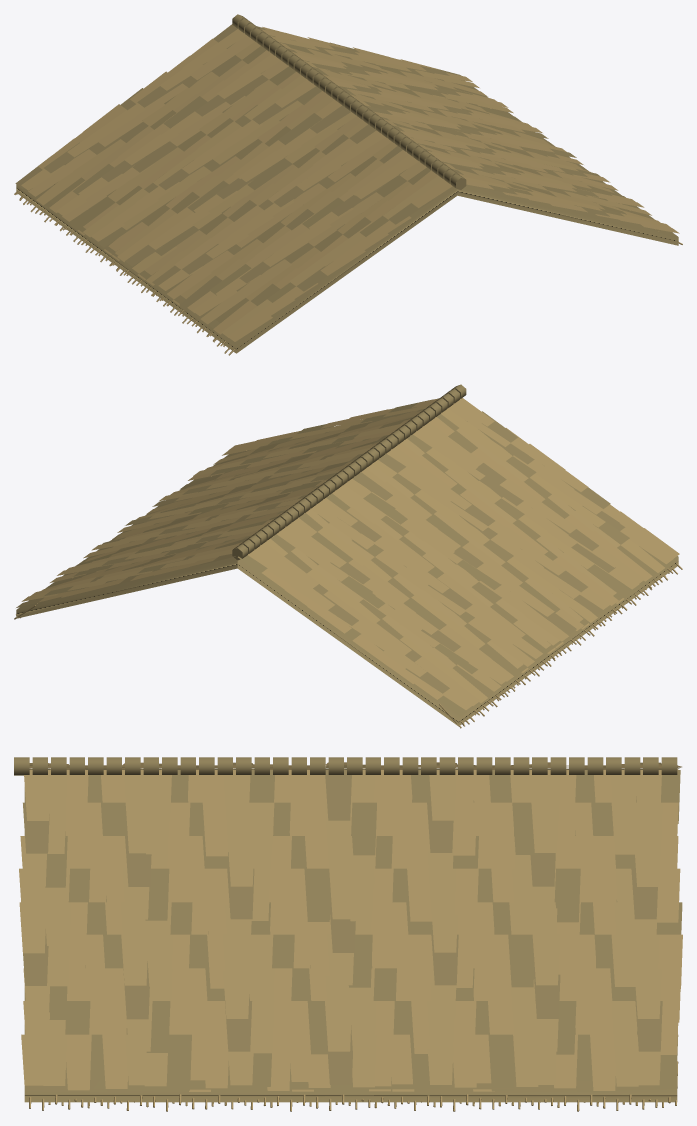
3 views of the same model, one above another, from view 1: azimuth 30°, elevation 25°; view 2: azimuth 150°, elevation 25°; view 3: azimuth 270°, elevation 25° (orthographic). The views are drawn at different scales.
Parts seen in each view (by area): view 1: Mesh_thatch-honey, Mesh_thatch-shade; view 2: Mesh_thatch-honey, Mesh_thatch-shade; view 3: Mesh_thatch-honey, Mesh_thatch-shade.
Boxes of the visible parts, <box> form: Mesh_thatch-honey: <box>14,27,682,355</box>; Mesh_thatch-shade: <box>15,14,678,353</box>; Mesh_thatch-honey: <box>14,398,682,728</box>; Mesh_thatch-shade: <box>16,384,678,726</box>; Mesh_thatch-honey: <box>19,762,682,1111</box>; Mesh_thatch-shade: <box>14,757,682,1102</box>.
Bounding box in the file's own units: 7.99 × 2.16 × 6.87.
